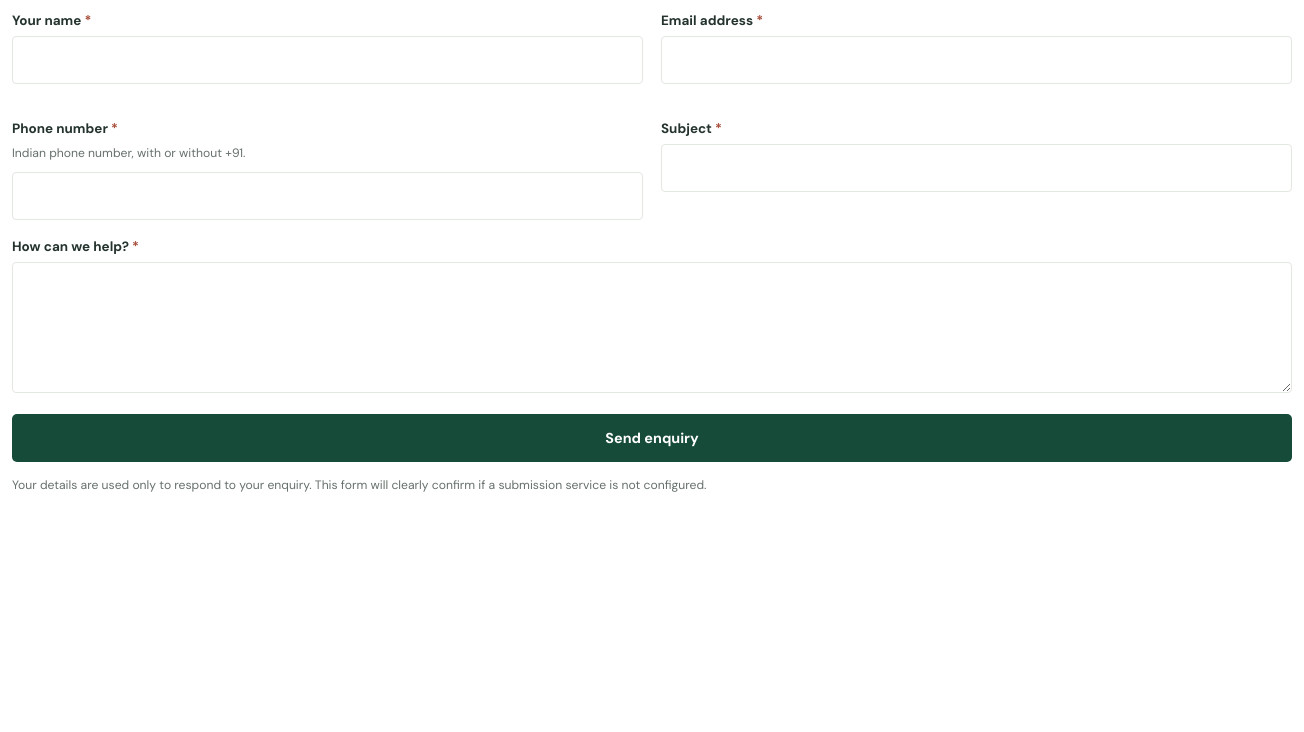
Test case: contact form › announces validation errors and does not submit invalid details
Type "not-an-email" into the field labelled "Email address *" at (976, 60), box [661,36,1292,84]
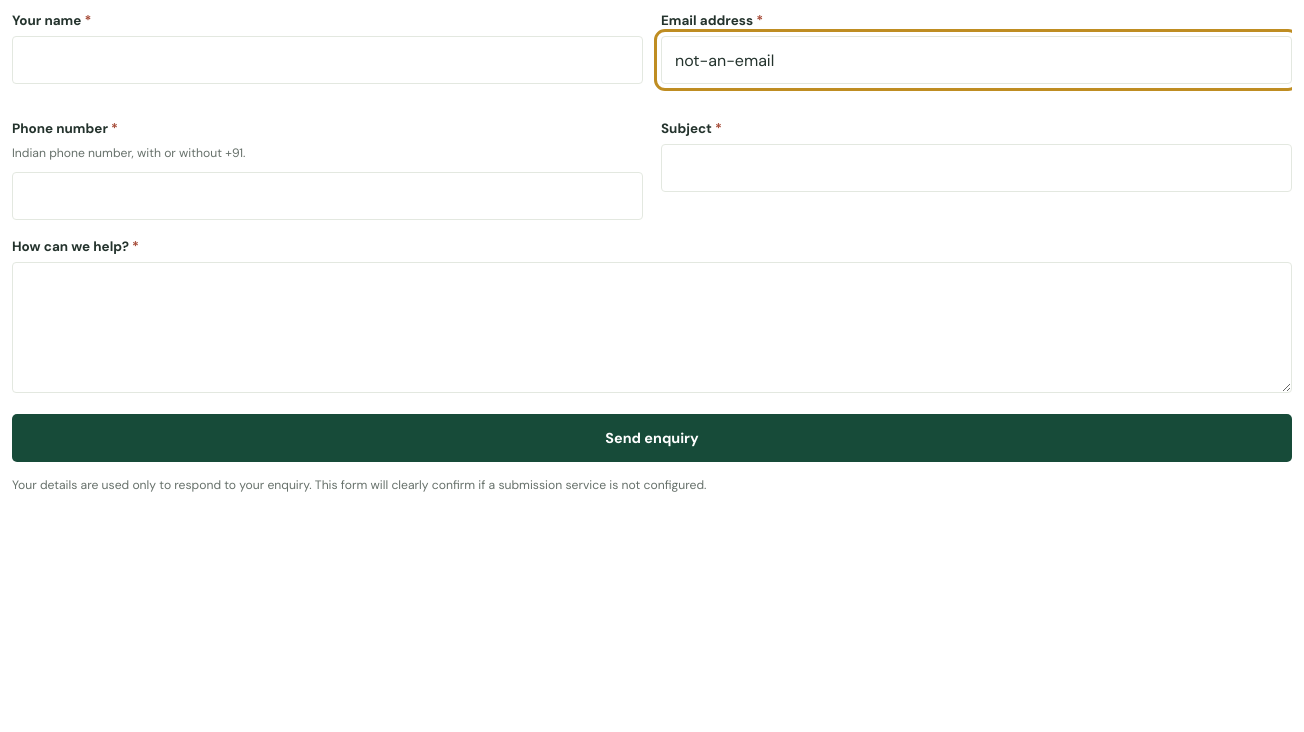
Click the button "Send enquiry" at (652, 438), box [12,414,1292,462]
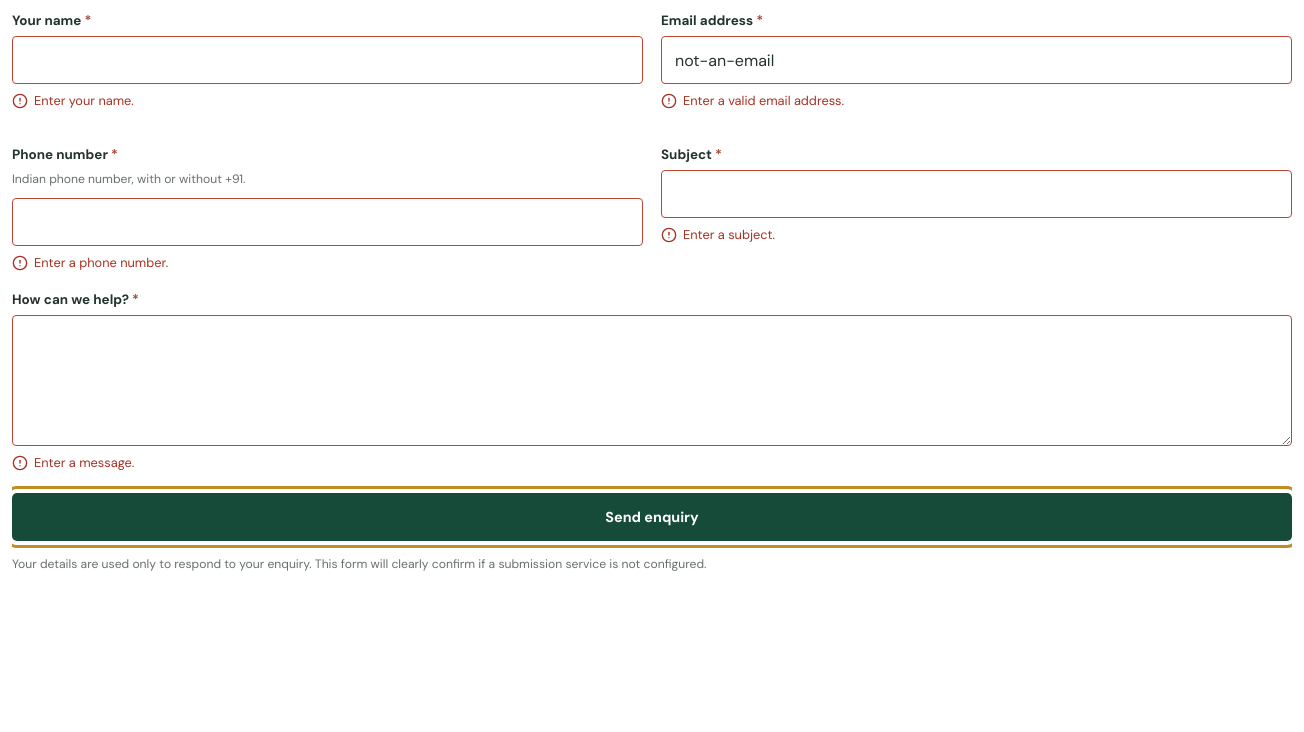
Expected: the text "Enter your name." is shown, [12,92,134,109]
Expected: the text "Enter a valid email address." is shown, [661,92,844,109]
